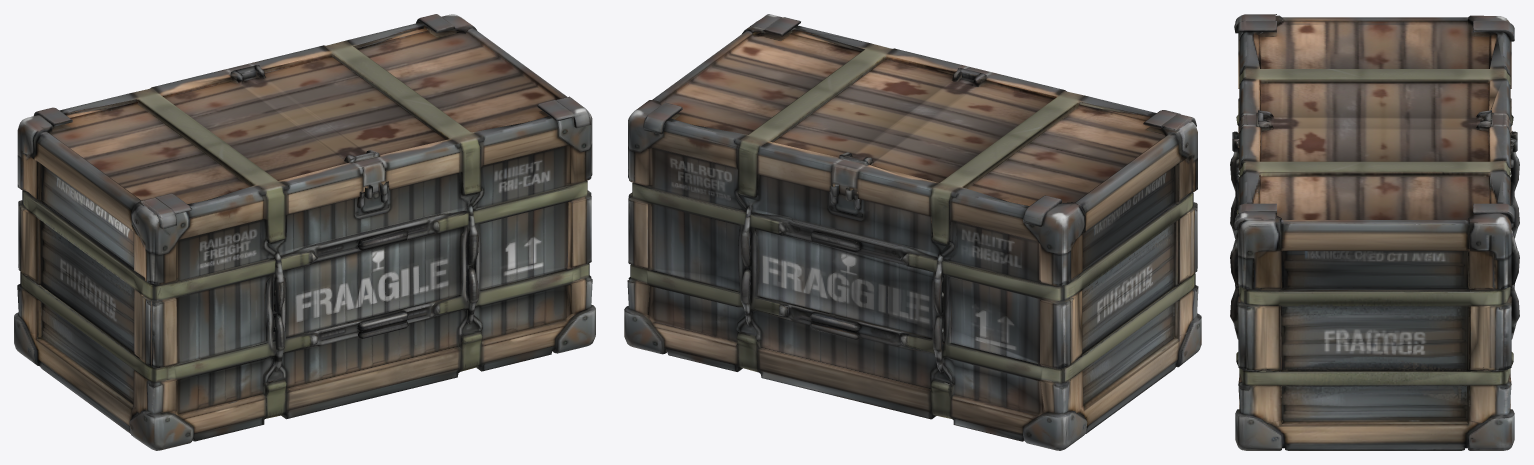
The model's file is Cargo_Container.glb.
3 views of the same model, side by side, from view 1: azimuth 30°, elevation 25°; view 2: azimuth 150°, elevation 25°; view 3: azimuth 270°, elevation 25° (orthographic). The views are drawn at different scales.
Bounding box in the file's own units: 1.91 × 0.9628 × 1.09.
Materials: 1 (1 with a texture image).
